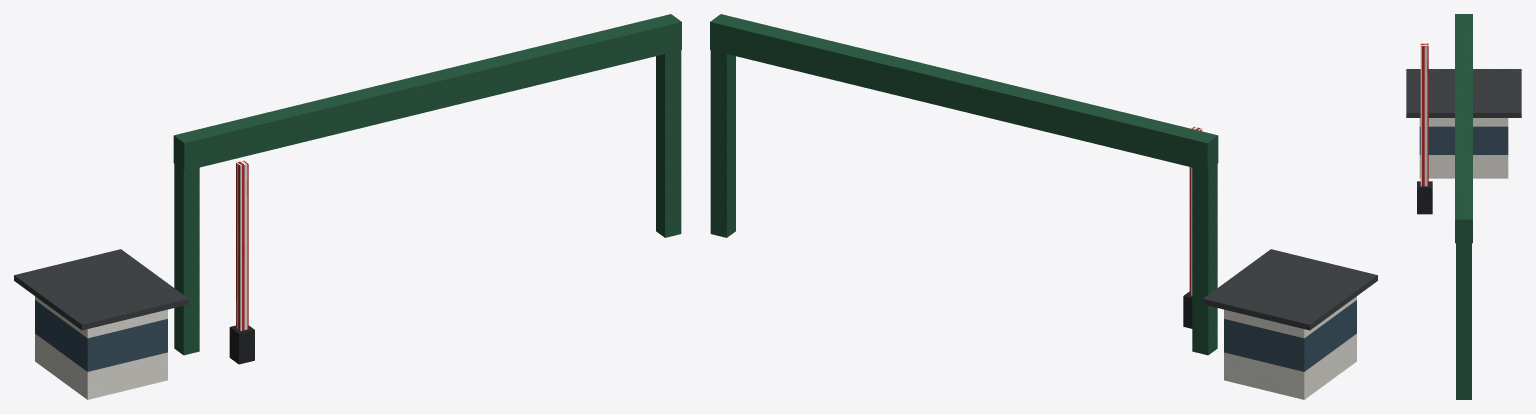
The model's file is port_gantry.glb.
3 views of the same model, side by side, from view 1: azimuth 30°, elevation 25°; view 2: azimuth 150°, elevation 25°; view 3: azimuth 270°, elevation 25° (orthographic). The views are drawn at different scales.
Parts seen in each view (by area): view 1: port_gantry; view 2: port_gantry; view 3: port_gantry.
Boxes of the visible parts, box(x1,y1,x2,y2) form: port_gantry: box(14, 14, 681, 399); port_gantry: box(710, 14, 1377, 399); port_gantry: box(1406, 14, 1521, 399).
Size of the model in its own units: 23.5 by 7.6 by 4.4.
Materials: 6 (6 with a texture image).
